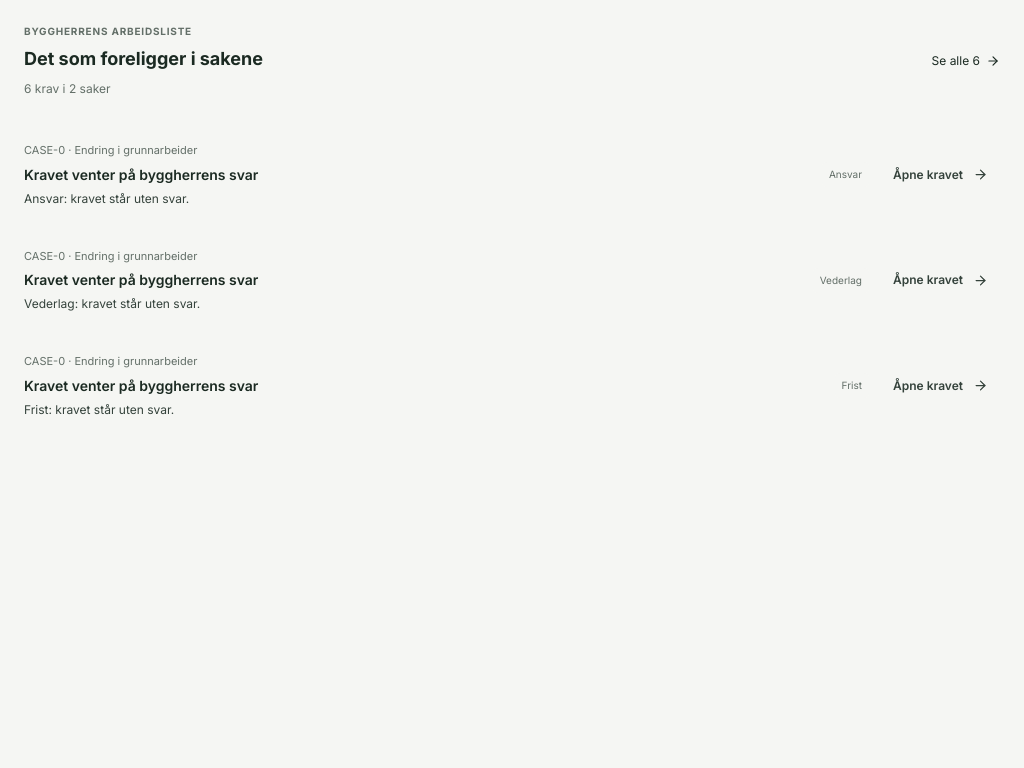
Test: BH ser kravene som venter på byggherrens svar, og lenken åpner sporet uten skjema (MM-U29)
The image size is (1024, 768).
Expected: the text "6 krav i 2 saker" is shown, [24,81,110,96]
Expected: the number of links is 3, [893,167,988,182]; [893,272,988,288]; [893,378,988,393]
Step 1. Click the button "Se alle 6" → (966, 61), box [932,52,1000,70]
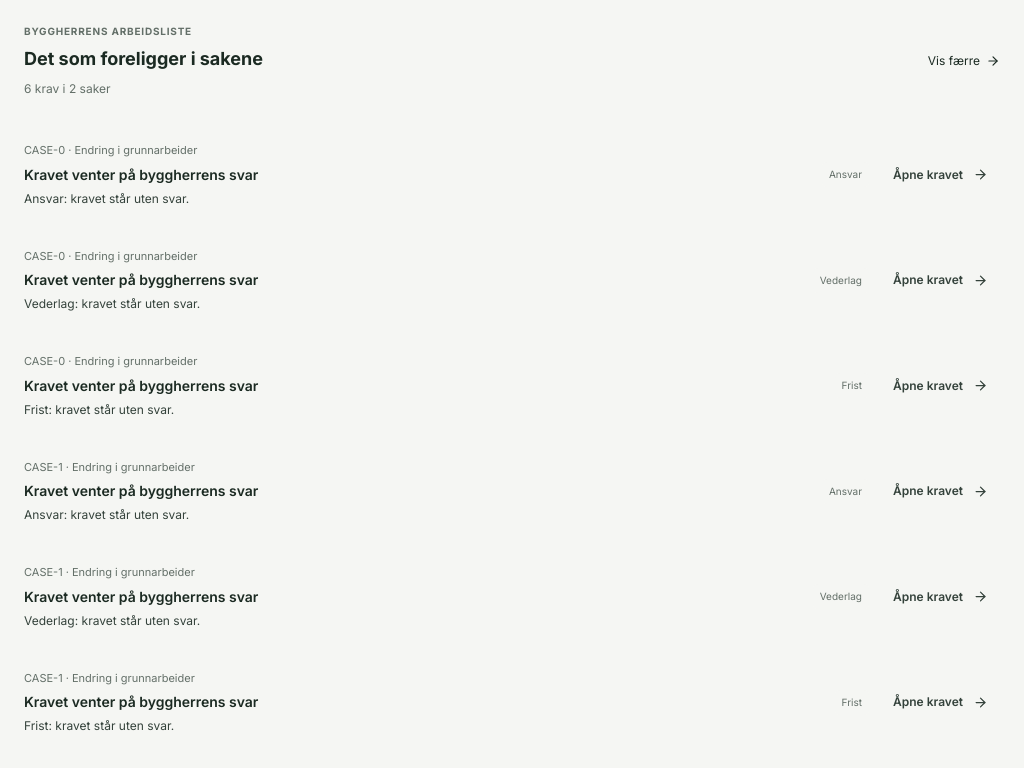
Now the number of links is 6, box [893,167,988,182]; [893,272,988,288]; [893,378,988,393]; [893,483,988,499]; [893,589,988,604]; [893,694,988,710]
